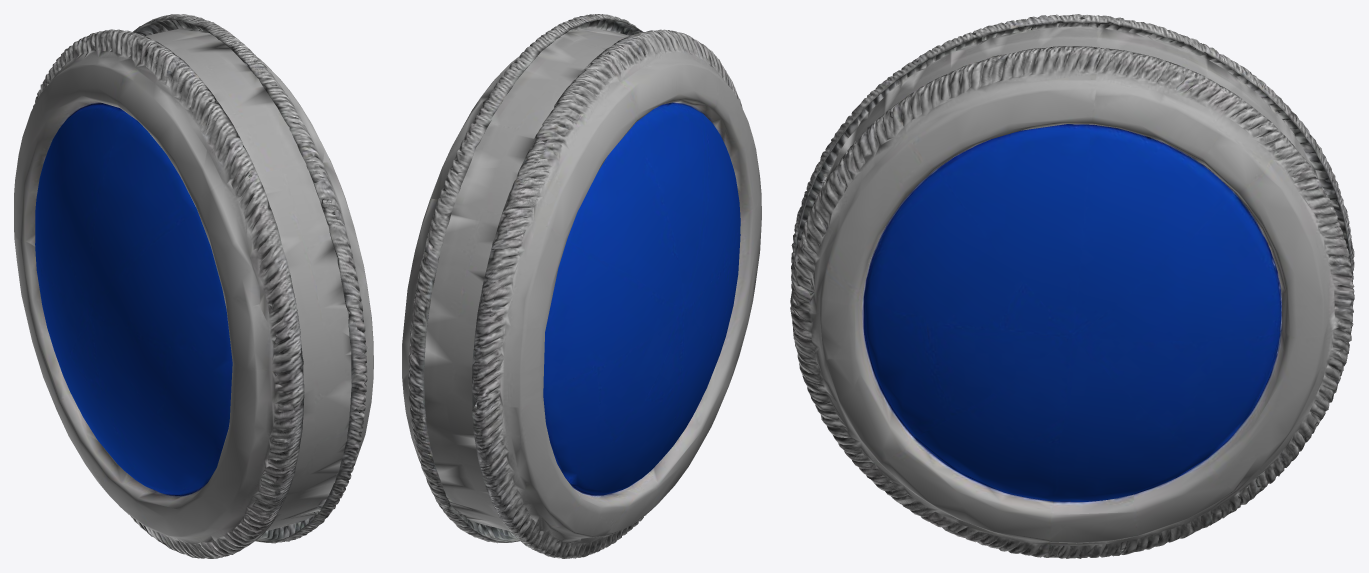
Rendered from btn-object3d.glb.
3 views of the same model, side by side, from view 1: azimuth 30°, elevation 25°; view 2: azimuth 150°, elevation 25°; view 3: azimuth 270°, elevation 25° (orthographic). The views are drawn at different scales.
Visible parts, largest first — view 1: tripo_node_8d102366-facf-40ca-a059-2bca1e48b7e9; view 2: tripo_node_8d102366-facf-40ca-a059-2bca1e48b7e9; view 3: tripo_node_8d102366-facf-40ca-a059-2bca1e48b7e9.
Part boxes in pixels (x1,y1,x2,y2): tripo_node_8d102366-facf-40ca-a059-2bca1e48b7e9: [14, 14, 373, 558]; tripo_node_8d102366-facf-40ca-a059-2bca1e48b7e9: [402, 14, 761, 558]; tripo_node_8d102366-facf-40ca-a059-2bca1e48b7e9: [790, 14, 1354, 558].
Size of the model in its own units: 0.0431 by 0.0999 by 0.1002.
1 material, 1 textured.
